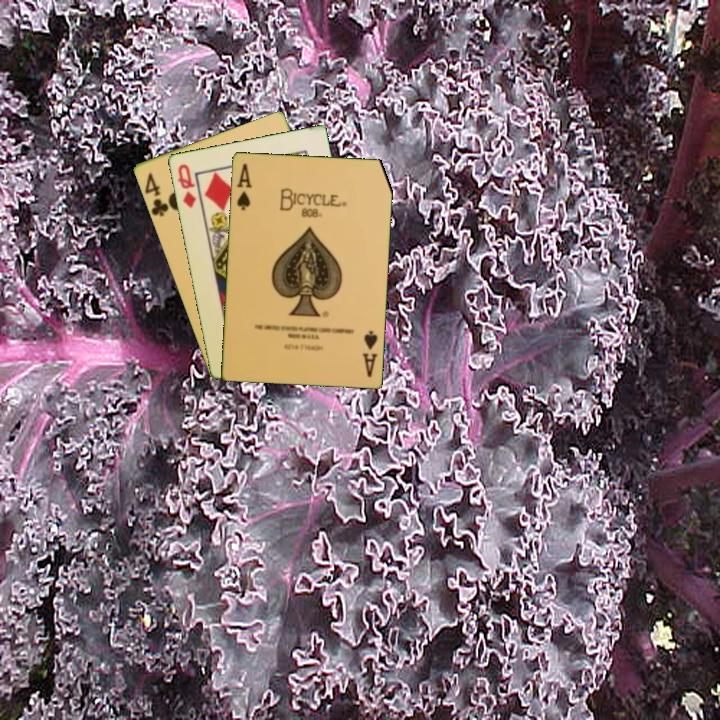4c: (141, 168, 171, 220)
As: (233, 160, 254, 213), (359, 327, 380, 380)
Qd: (174, 160, 198, 211)
